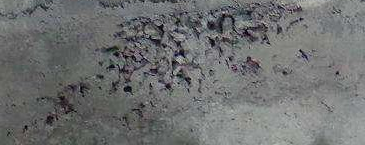Spalling: (1, 1, 310, 137), (1, 1, 53, 20)
